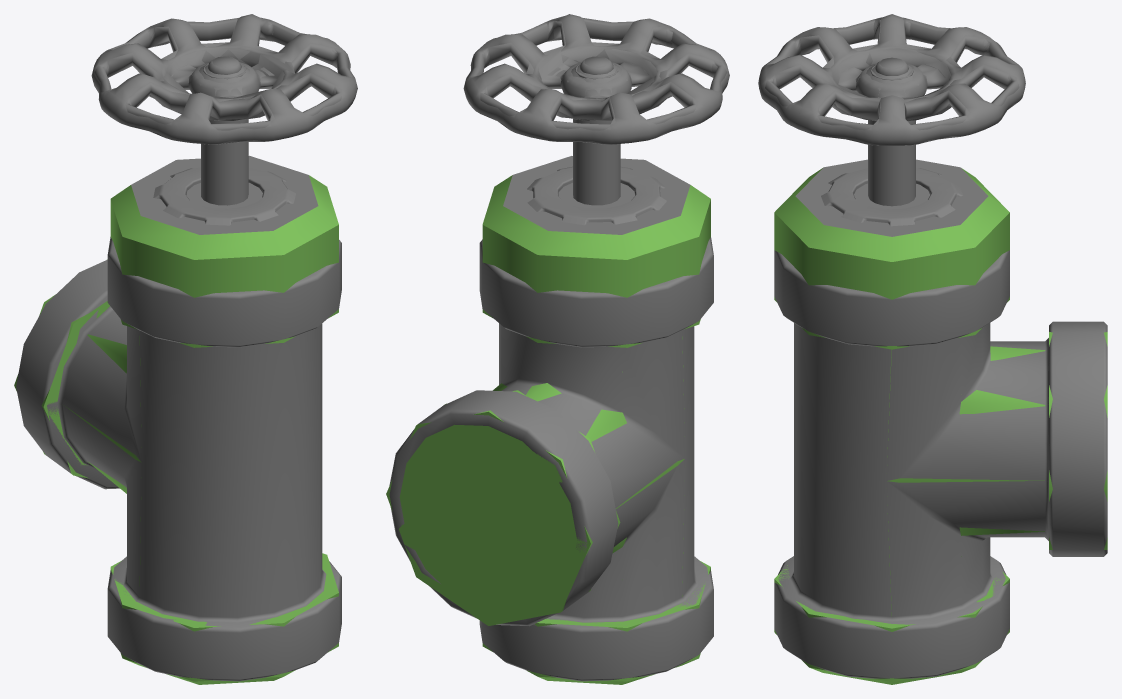
The model's file is PipeSetSprinkler_01_Mesh.fbx.
3 views of the same model, side by side, from view 1: azimuth 30°, elevation 25°; view 2: azimuth 150°, elevation 25°; view 3: azimuth 270°, elevation 25° (orthographic).
Visible parts, largest first — view 1: PipeSet_Lamp_01_LOD0, PipeSet_Lamp_01_Col; view 2: PipeSet_Lamp_01_LOD0, PipeSet_Lamp_01_Col; view 3: PipeSet_Lamp_01_LOD0, PipeSet_Lamp_01_Col.
Part boxes in pixels (x1,y1,x2,y2): PipeSet_Lamp_01_LOD0: [16, 14, 357, 681]; PipeSet_Lamp_01_Col: [14, 18, 354, 684]; PipeSet_Lamp_01_LOD0: [389, 14, 729, 681]; PipeSet_Lamp_01_Col: [386, 17, 727, 684]; PipeSet_Lamp_01_LOD0: [758, 14, 1107, 678]; PipeSet_Lamp_01_Col: [765, 19, 1107, 684].
Size of what is drawn, in the model's own units: 6.82 by 16.55 by 8.9.
